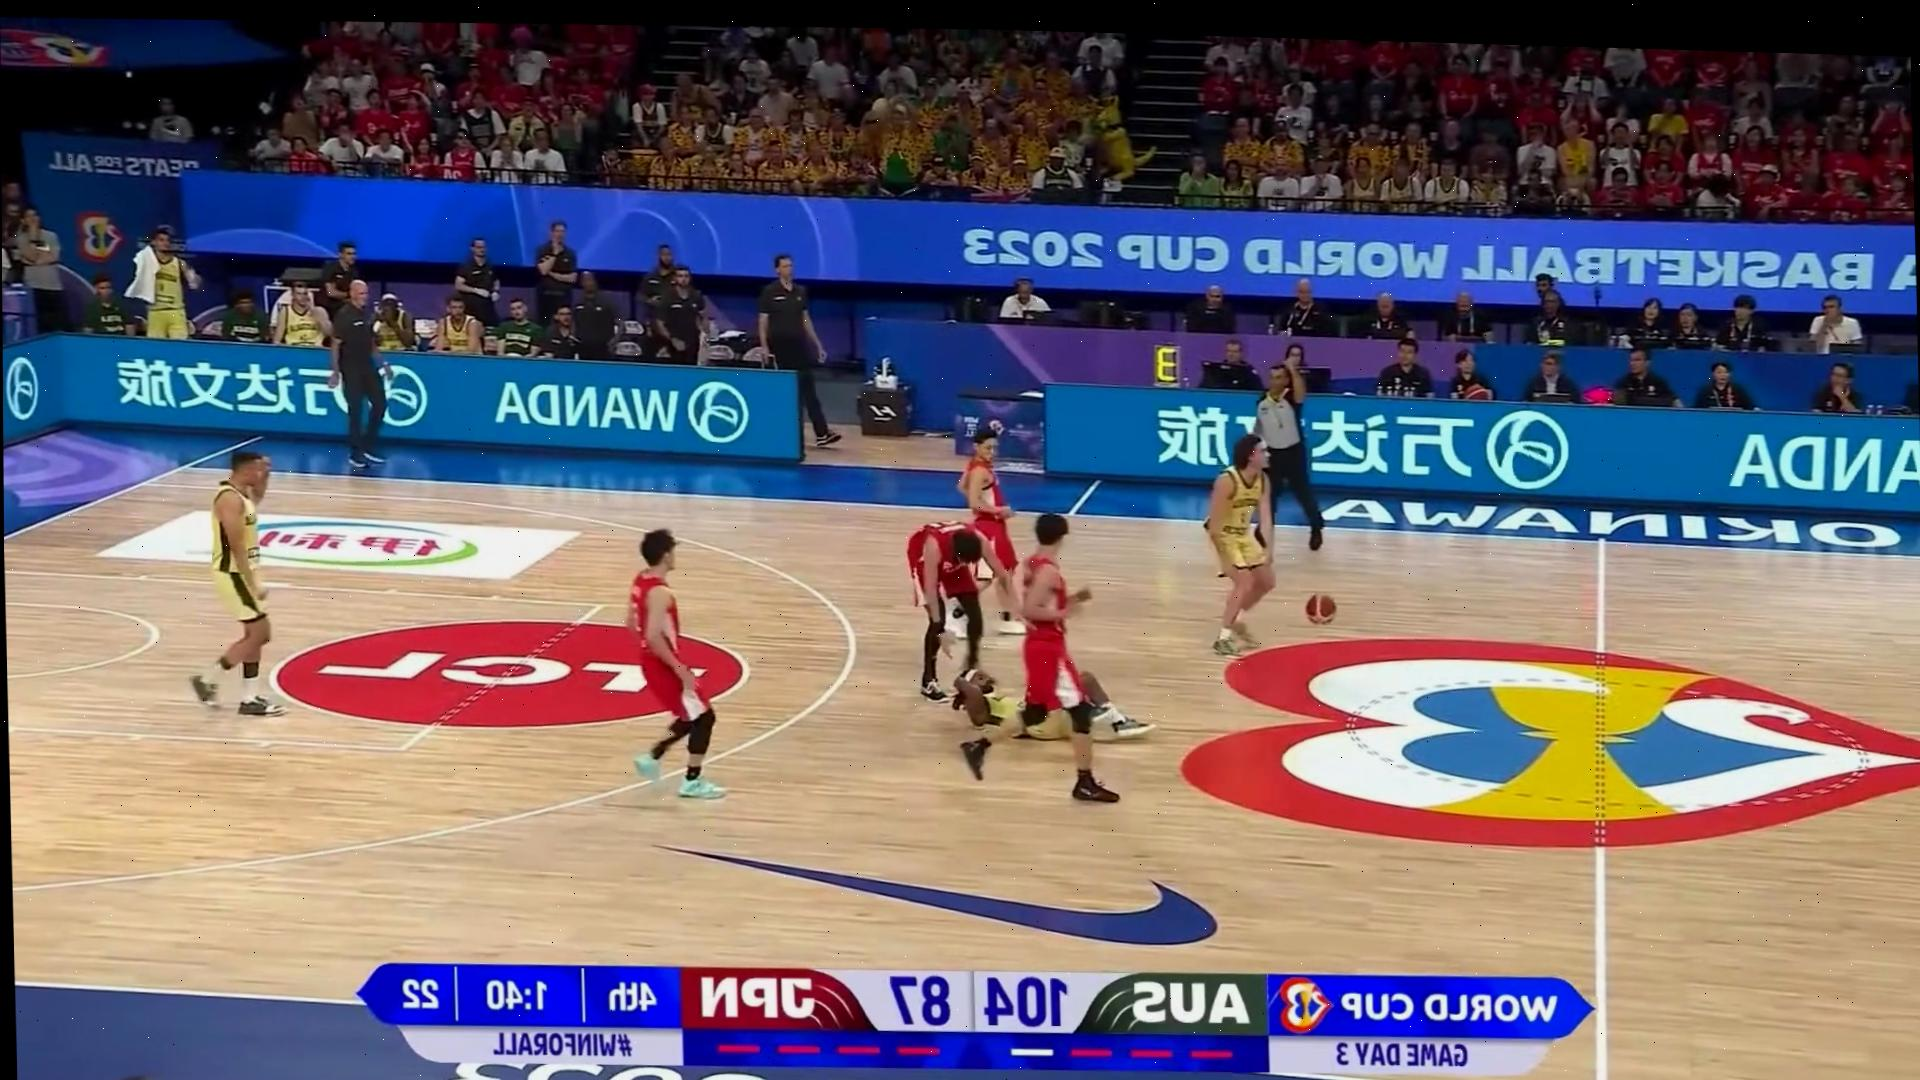foul: (895, 541, 1154, 764)
